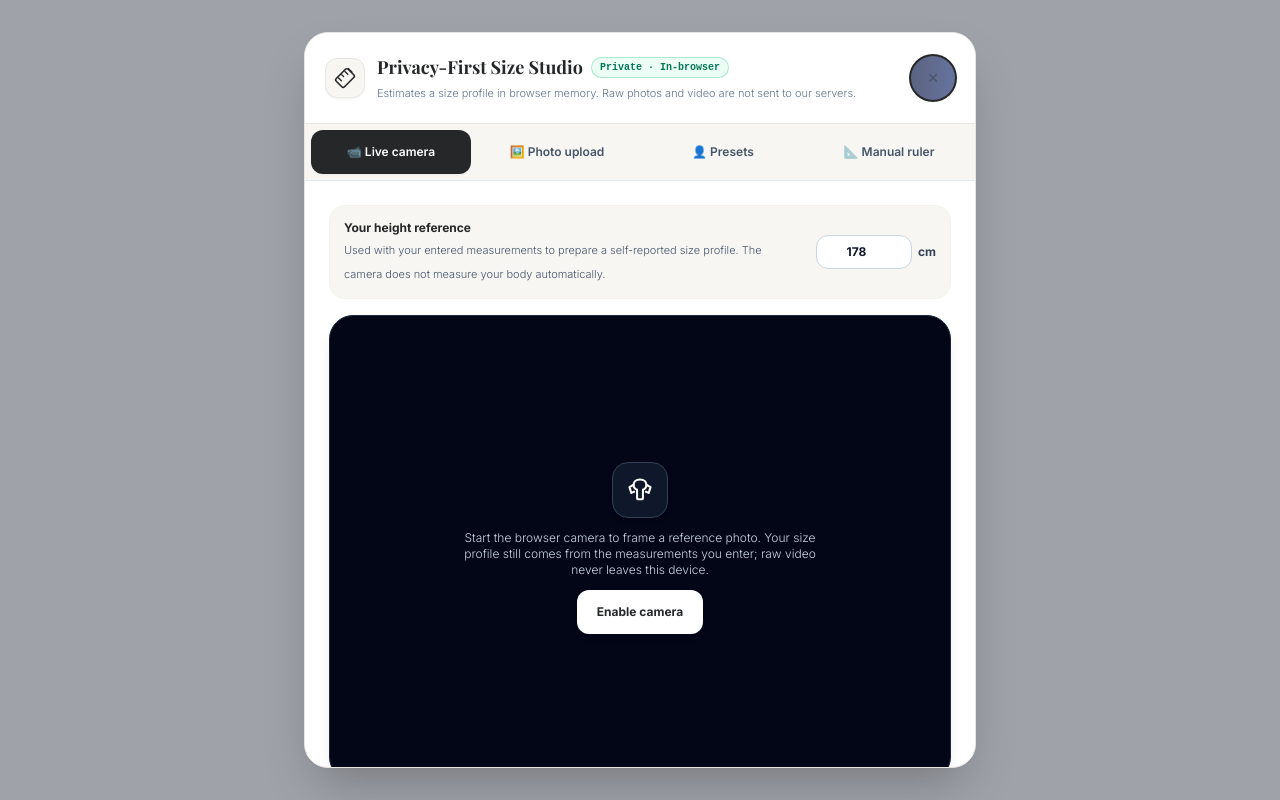
Test case: CameraScanModal responsive and privacy contract › changes methods through real accessible tabs
This screenshot has width=1280, height=800.
Click the tab "🖼️ Photo upload".
click(557, 152)  # box [477,130,637,174]
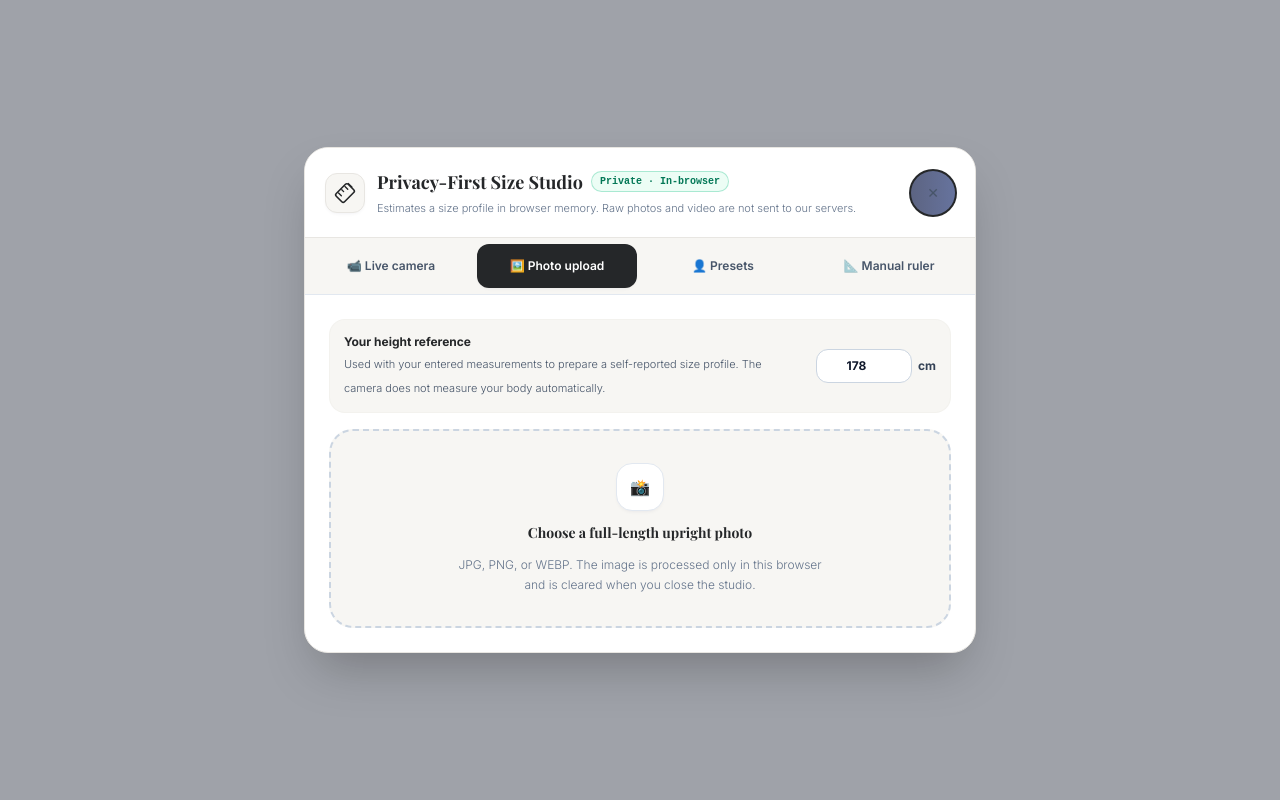
Now the button "Choose a full-length upright photo" is shown, box [329,429,951,628]
